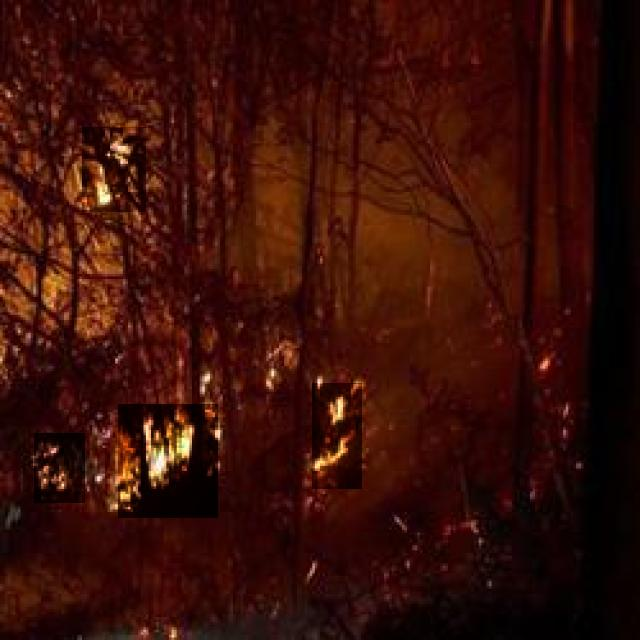Fire: (118, 404, 218, 518), (82, 127, 146, 212), (312, 383, 362, 489), (34, 433, 85, 503)
